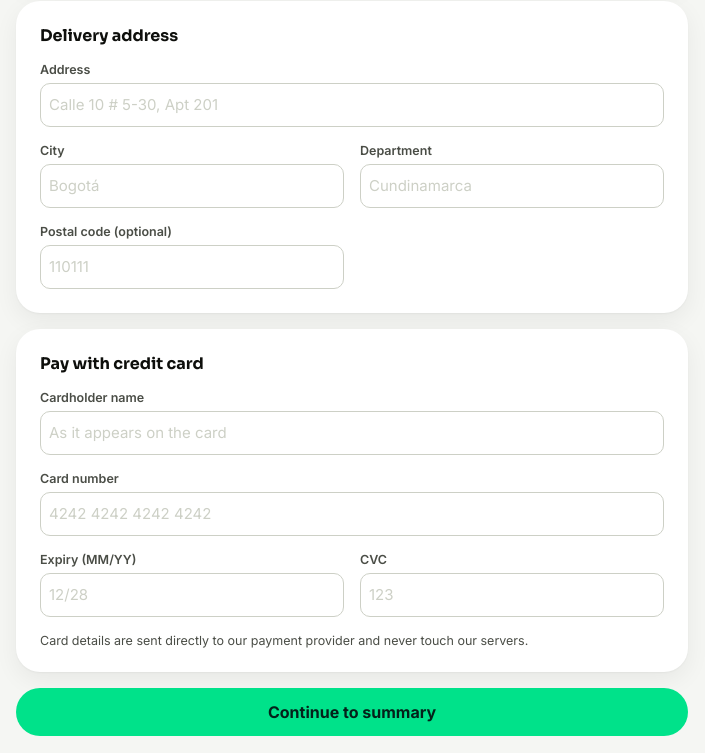
Scenario: CheckoutPage › detects the Visa brand as the card number is typed
The width and height of the screenshot is (705, 753).
(page scrolled)
Type "4242424242424242" into the field with placeholder "4242 4242 4242 4242".
click(352, 514); type("4242424242424242")  # box [40, 492, 664, 536]
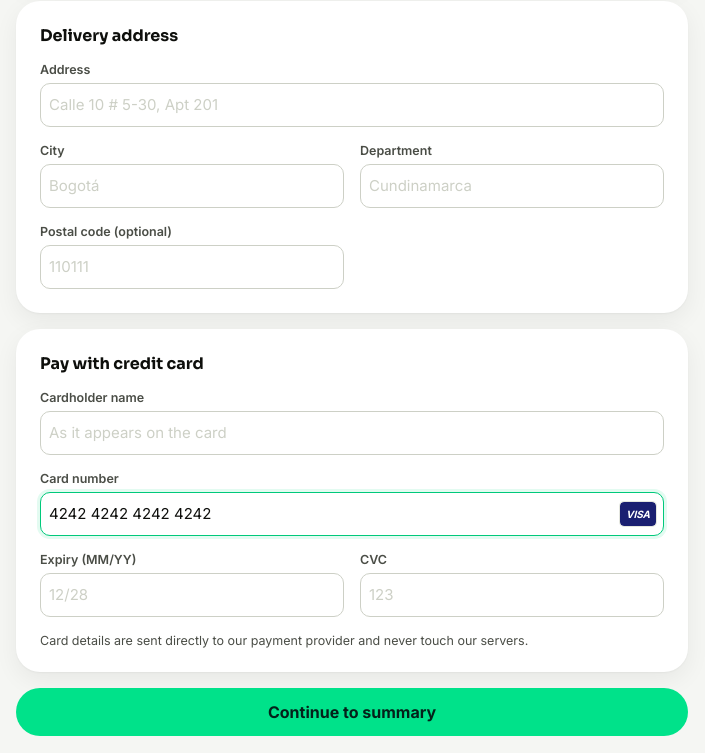
Check: the picture "VISA" is shown, box [620, 502, 656, 526]
